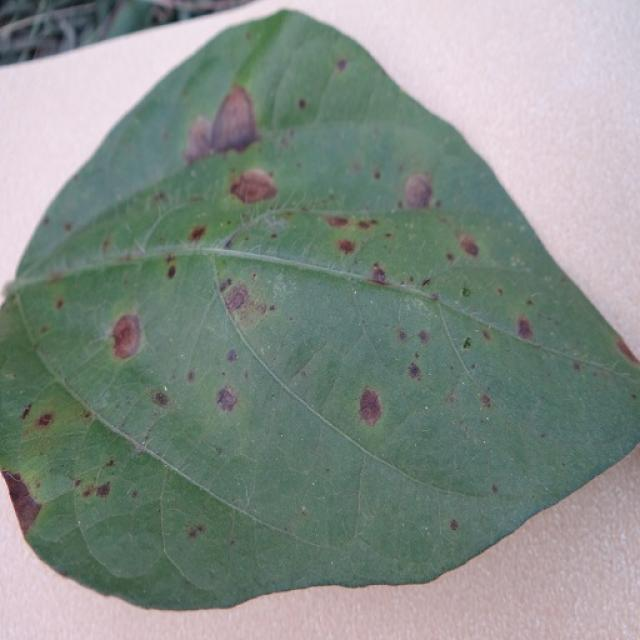Anthracnose: (365, 294, 512, 432), (196, 81, 280, 162), (1, 469, 43, 539), (222, 280, 273, 331), (364, 272, 432, 298), (391, 321, 433, 362), (110, 312, 144, 360), (185, 118, 214, 163), (402, 173, 434, 209), (357, 386, 385, 427), (322, 213, 379, 233), (223, 283, 249, 313), (214, 385, 239, 414), (614, 336, 638, 366), (80, 479, 112, 500), (458, 233, 480, 258), (515, 316, 534, 342), (164, 254, 178, 280), (324, 215, 349, 228), (370, 265, 387, 284), (188, 225, 207, 242), (0, 278, 14, 301), (186, 524, 205, 540), (337, 239, 356, 255), (153, 391, 170, 407), (37, 412, 54, 427), (335, 58, 348, 72), (462, 337, 473, 349), (461, 286, 472, 297)
Blackgram: (0, 10, 639, 609)
